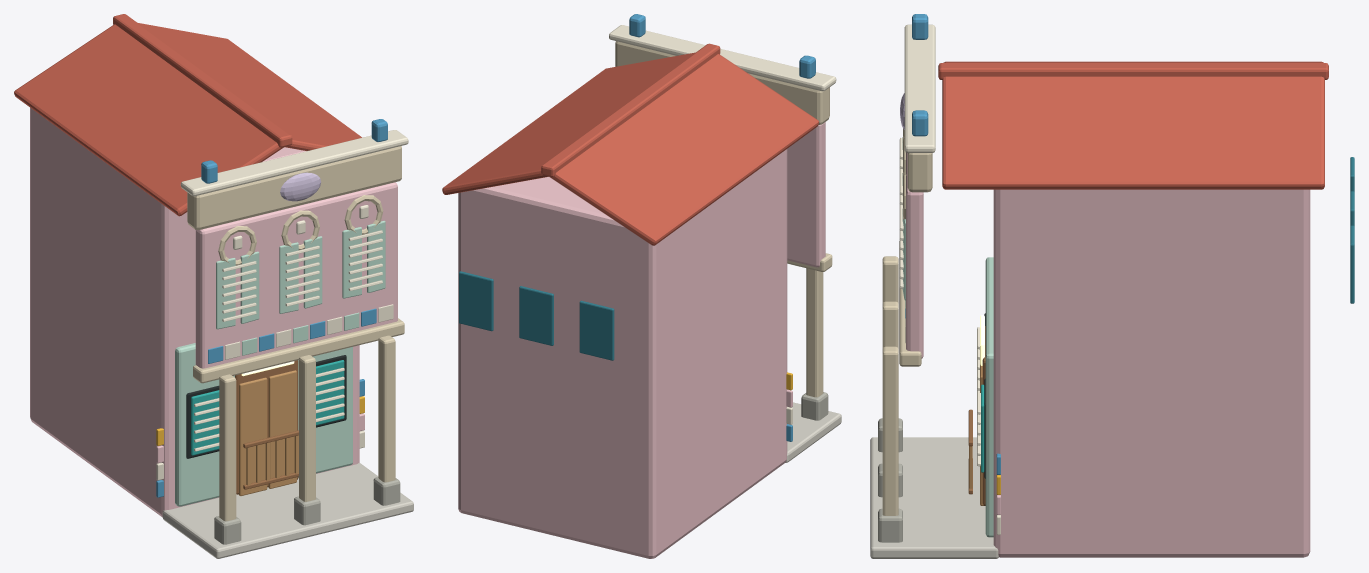
File: peranakan-house-v2.glb
The picture shows the model from 3 angles, left to right: view 1: azimuth 30°, elevation 25°; view 2: azimuth 150°, elevation 25°; view 3: azimuth 270°, elevation 25°; orthographic projection. The views are drawn at different scales.
Visible parts, largest first — view 1: PERANAKAN TERRACE HOUSE · Peranakan blush, PERANAKAN TERRACE HOUSE · Terracotta, PERANAKAN TERRACE HOUSE · Warm plaster, PERANAKAN TERRACE HOUSE · Peranakan mint, PERANAKAN TERRACE HOUSE · Terrazzo, PERANAKAN TERRACE HOUSE · Chalk, PERANAKAN TERRACE HOUSE · Sun timber, PERANAKAN TERRACE HOUSE · Weathered teal, PERANAKAN TERRACE HOUSE · Concrete, PERANAKAN TERRACE HOUSE · Ceramic tile blue, PERANAKAN TERRACE HOUSE · Timber, PERANAKAN TERRACE HOUSE · Ink (+1 smaller); view 2: PERANAKAN TERRACE HOUSE · Peranakan blush, PERANAKAN TERRACE HOUSE · Terracotta, PERANAKAN TERRACE HOUSE · Graphic glass, PERANAKAN TERRACE HOUSE · Warm plaster, PERANAKAN TERRACE HOUSE · Chalk, PERANAKAN TERRACE HOUSE · Terrazzo, PERANAKAN TERRACE HOUSE · Ceramic tile blue, PERANAKAN TERRACE HOUSE · Concrete; view 3: PERANAKAN TERRACE HOUSE · Peranakan blush, PERANAKAN TERRACE HOUSE · Terracotta, PERANAKAN TERRACE HOUSE · Terrazzo, PERANAKAN TERRACE HOUSE · Warm plaster, PERANAKAN TERRACE HOUSE · Chalk, PERANAKAN TERRACE HOUSE · Peranakan mint, PERANAKAN TERRACE HOUSE · Concrete, PERANAKAN TERRACE HOUSE · Ceramic tile blue, PERANAKAN TERRACE HOUSE · Graphic glass.
Part boxes in pixels (left/top/right/bottom): PERANAKAN TERRACE HOUSE · Peranakan blush: left=30, top=107, right=397, bottom=517; PERANAKAN TERRACE HOUSE · Terracotta: left=14, top=14, right=361, bottom=216; PERANAKAN TERRACE HOUSE · Warm plaster: left=187, top=146, right=404, bottom=521; PERANAKAN TERRACE HOUSE · Peranakan mint: left=175, top=220, right=385, bottom=506; PERANAKAN TERRACE HOUSE · Terrazzo: left=162, top=463, right=413, bottom=558; PERANAKAN TERRACE HOUSE · Chalk: left=156, top=130, right=408, bottom=480; PERANAKAN TERRACE HOUSE · Sun timber: left=238, top=370, right=298, bottom=495; PERANAKAN TERRACE HOUSE · Weathered teal: left=191, top=360, right=344, bottom=455; PERANAKAN TERRACE HOUSE · Concrete: left=214, top=477, right=400, bottom=544; PERANAKAN TERRACE HOUSE · Ceramic tile blue: left=156, top=119, right=387, bottom=497; PERANAKAN TERRACE HOUSE · Timber: left=235, top=360, right=298, bottom=494; PERANAKAN TERRACE HOUSE · Ink: left=186, top=355, right=346, bottom=458; PERANAKAN TERRACE HOUSE · Peranakan blush: left=458, top=122, right=825, bottom=558; PERANAKAN TERRACE HOUSE · Terracotta: left=442, top=43, right=818, bottom=245; PERANAKAN TERRACE HOUSE · Graphic glass: left=459, top=271, right=614, bottom=360; PERANAKAN TERRACE HOUSE · Warm plaster: left=615, top=41, right=832, bottom=397; PERANAKAN TERRACE HOUSE · Chalk: left=609, top=25, right=836, bottom=424; PERANAKAN TERRACE HOUSE · Terrazzo: left=785, top=402, right=841, bottom=462; PERANAKAN TERRACE HOUSE · Ceramic tile blue: left=629, top=14, right=815, bottom=441; PERANAKAN TERRACE HOUSE · Concrete: left=801, top=392, right=828, bottom=420; PERANAKAN TERRACE HOUSE · Peranakan blush: left=906, top=152, right=1310, bottom=557; PERANAKAN TERRACE HOUSE · Terracotta: left=938, top=61, right=1328, bottom=189; PERANAKAN TERRACE HOUSE · Terrazzo: left=870, top=437, right=998, bottom=558; PERANAKAN TERRACE HOUSE · Warm plaster: left=882, top=128, right=932, bottom=515; PERANAKAN TERRACE HOUSE · Chalk: left=899, top=24, right=1000, bottom=534; PERANAKAN TERRACE HOUSE · Peranakan mint: left=902, top=137, right=993, bottom=537; PERANAKAN TERRACE HOUSE · Concrete: left=878, top=418, right=902, bottom=542; PERANAKAN TERRACE HOUSE · Ceramic tile blue: left=905, top=14, right=1000, bottom=474; PERANAKAN TERRACE HOUSE · Graphic glass: left=1350, top=157, right=1354, bottom=303.
Bounding box in the file's own units: 3.94 × 6.59 × 6.58.
